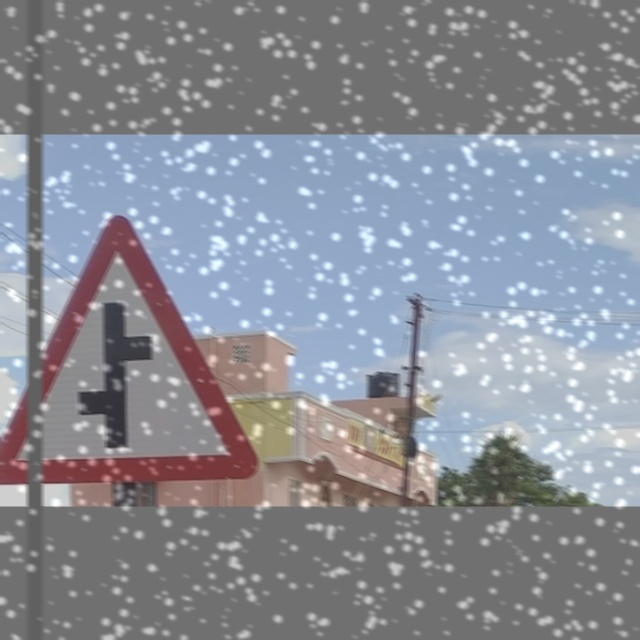Staggered_Intersection: (12, 219, 242, 481)
